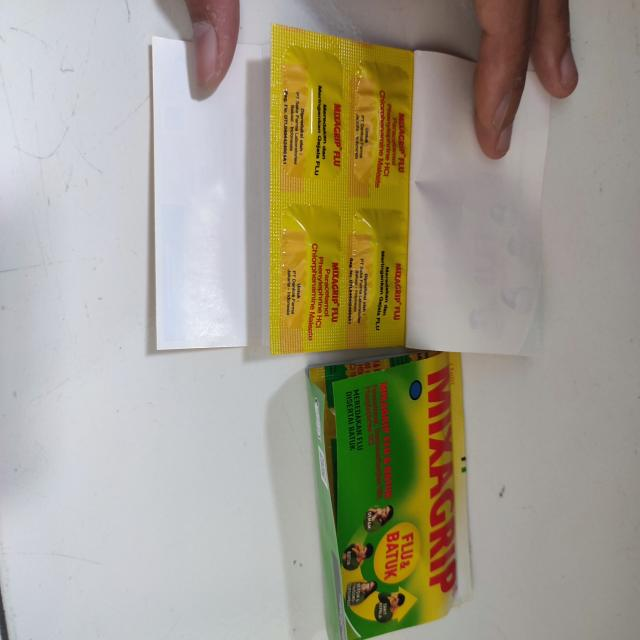B3: (152, 24, 551, 358), (307, 351, 473, 640)
